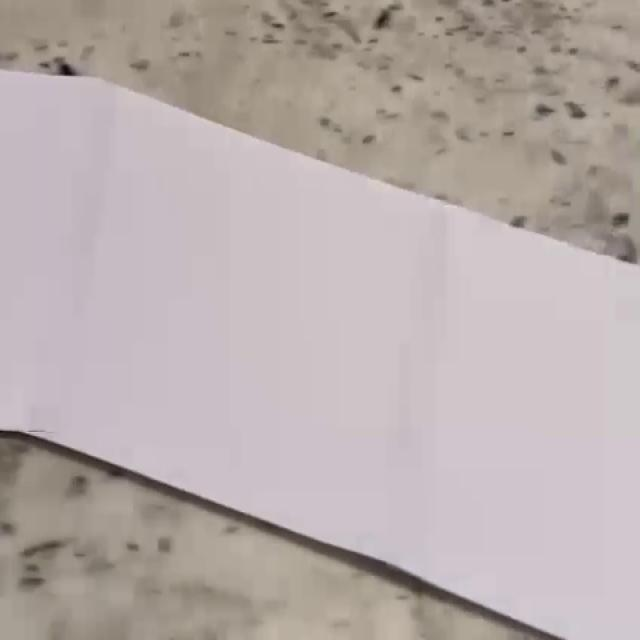road: (0, 76, 640, 640)
